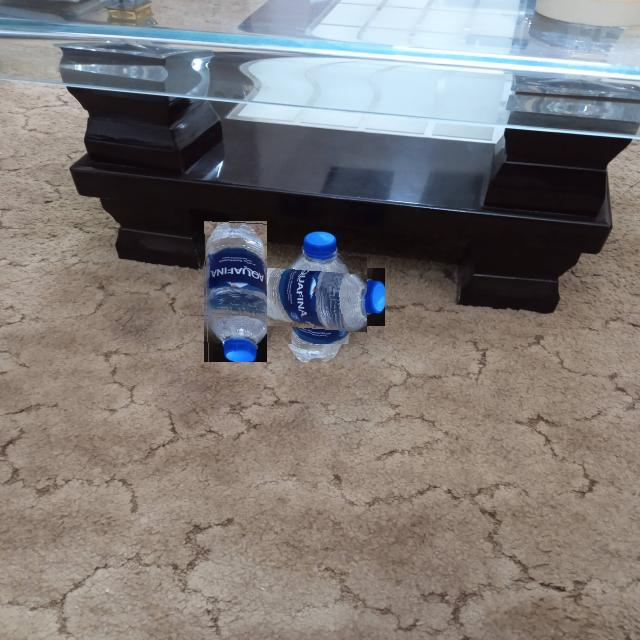Plastic: (203, 220, 267, 362), (273, 250, 367, 344)
